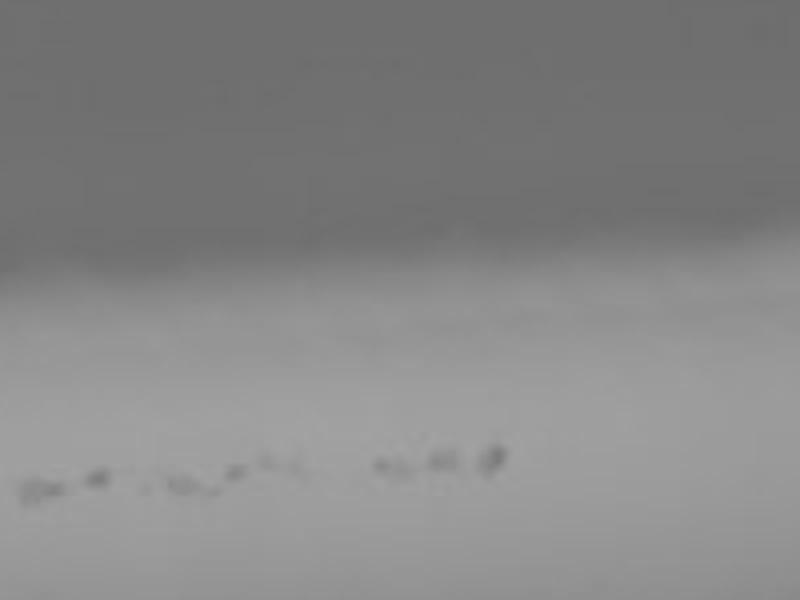defect: (14, 474, 41, 510), (475, 443, 504, 476), (424, 447, 462, 471), (165, 471, 198, 494), (81, 465, 110, 491), (253, 449, 276, 470), (223, 462, 247, 482), (371, 453, 395, 473), (44, 483, 70, 500), (136, 480, 156, 500), (202, 485, 223, 498)
